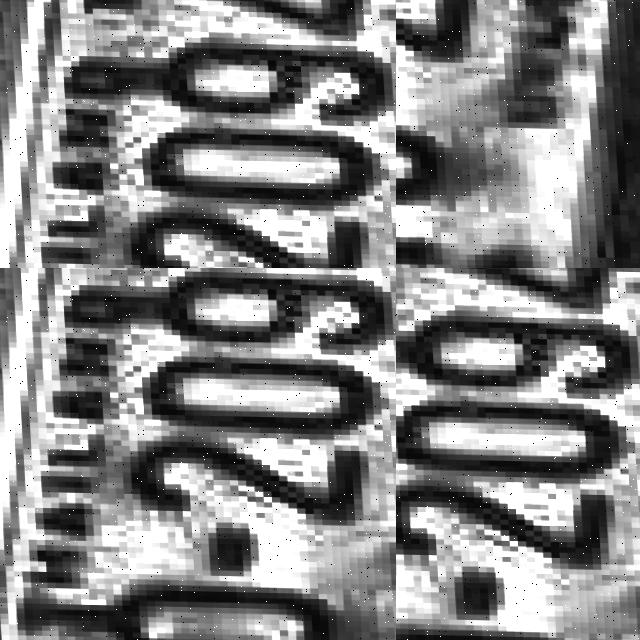license-plate: (0, 268, 396, 640), (396, 268, 640, 640), (396, 0, 600, 268)
